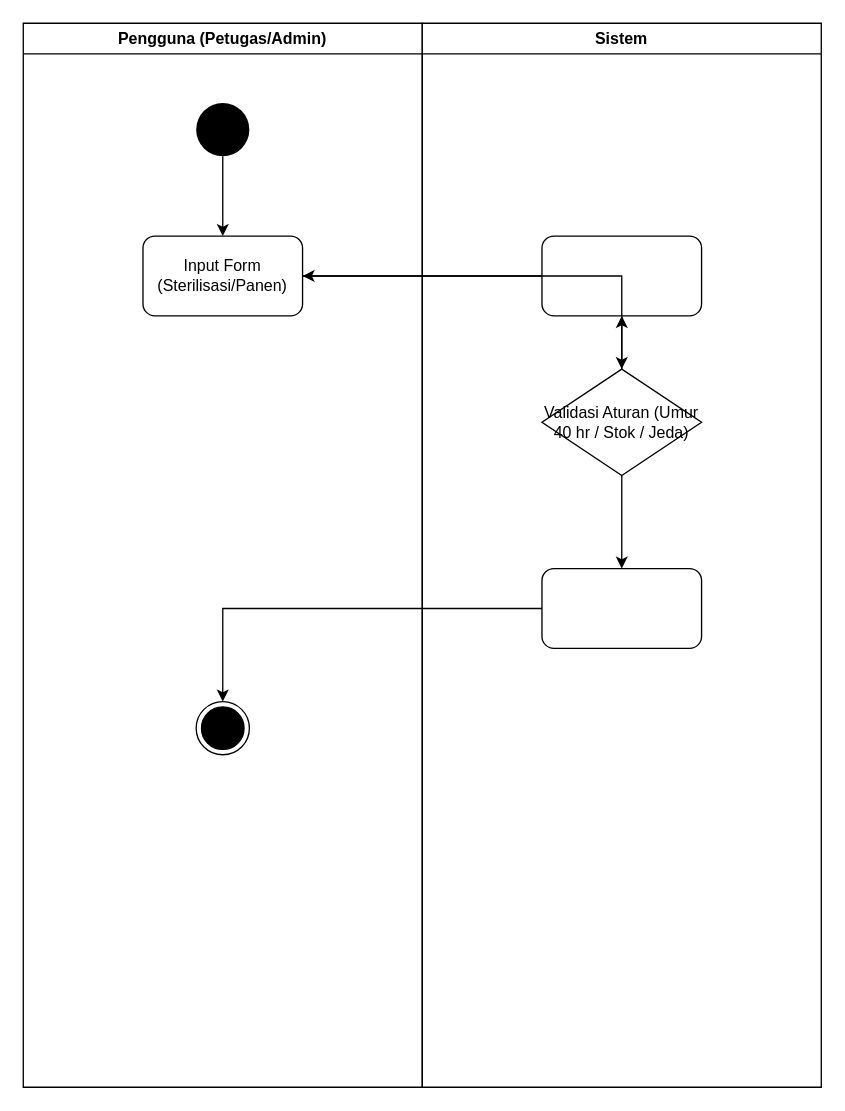
Some shapes in this 845 by 1111 pixel diagram are drawn without their labels. The shapes that lost their labels are listed below. From the top down, each one's centre as x and y in pixels, then its label:
the point at 621,275: Tampilkan Error Validation
the point at 621,607: Simpan ke Database & Update Status
